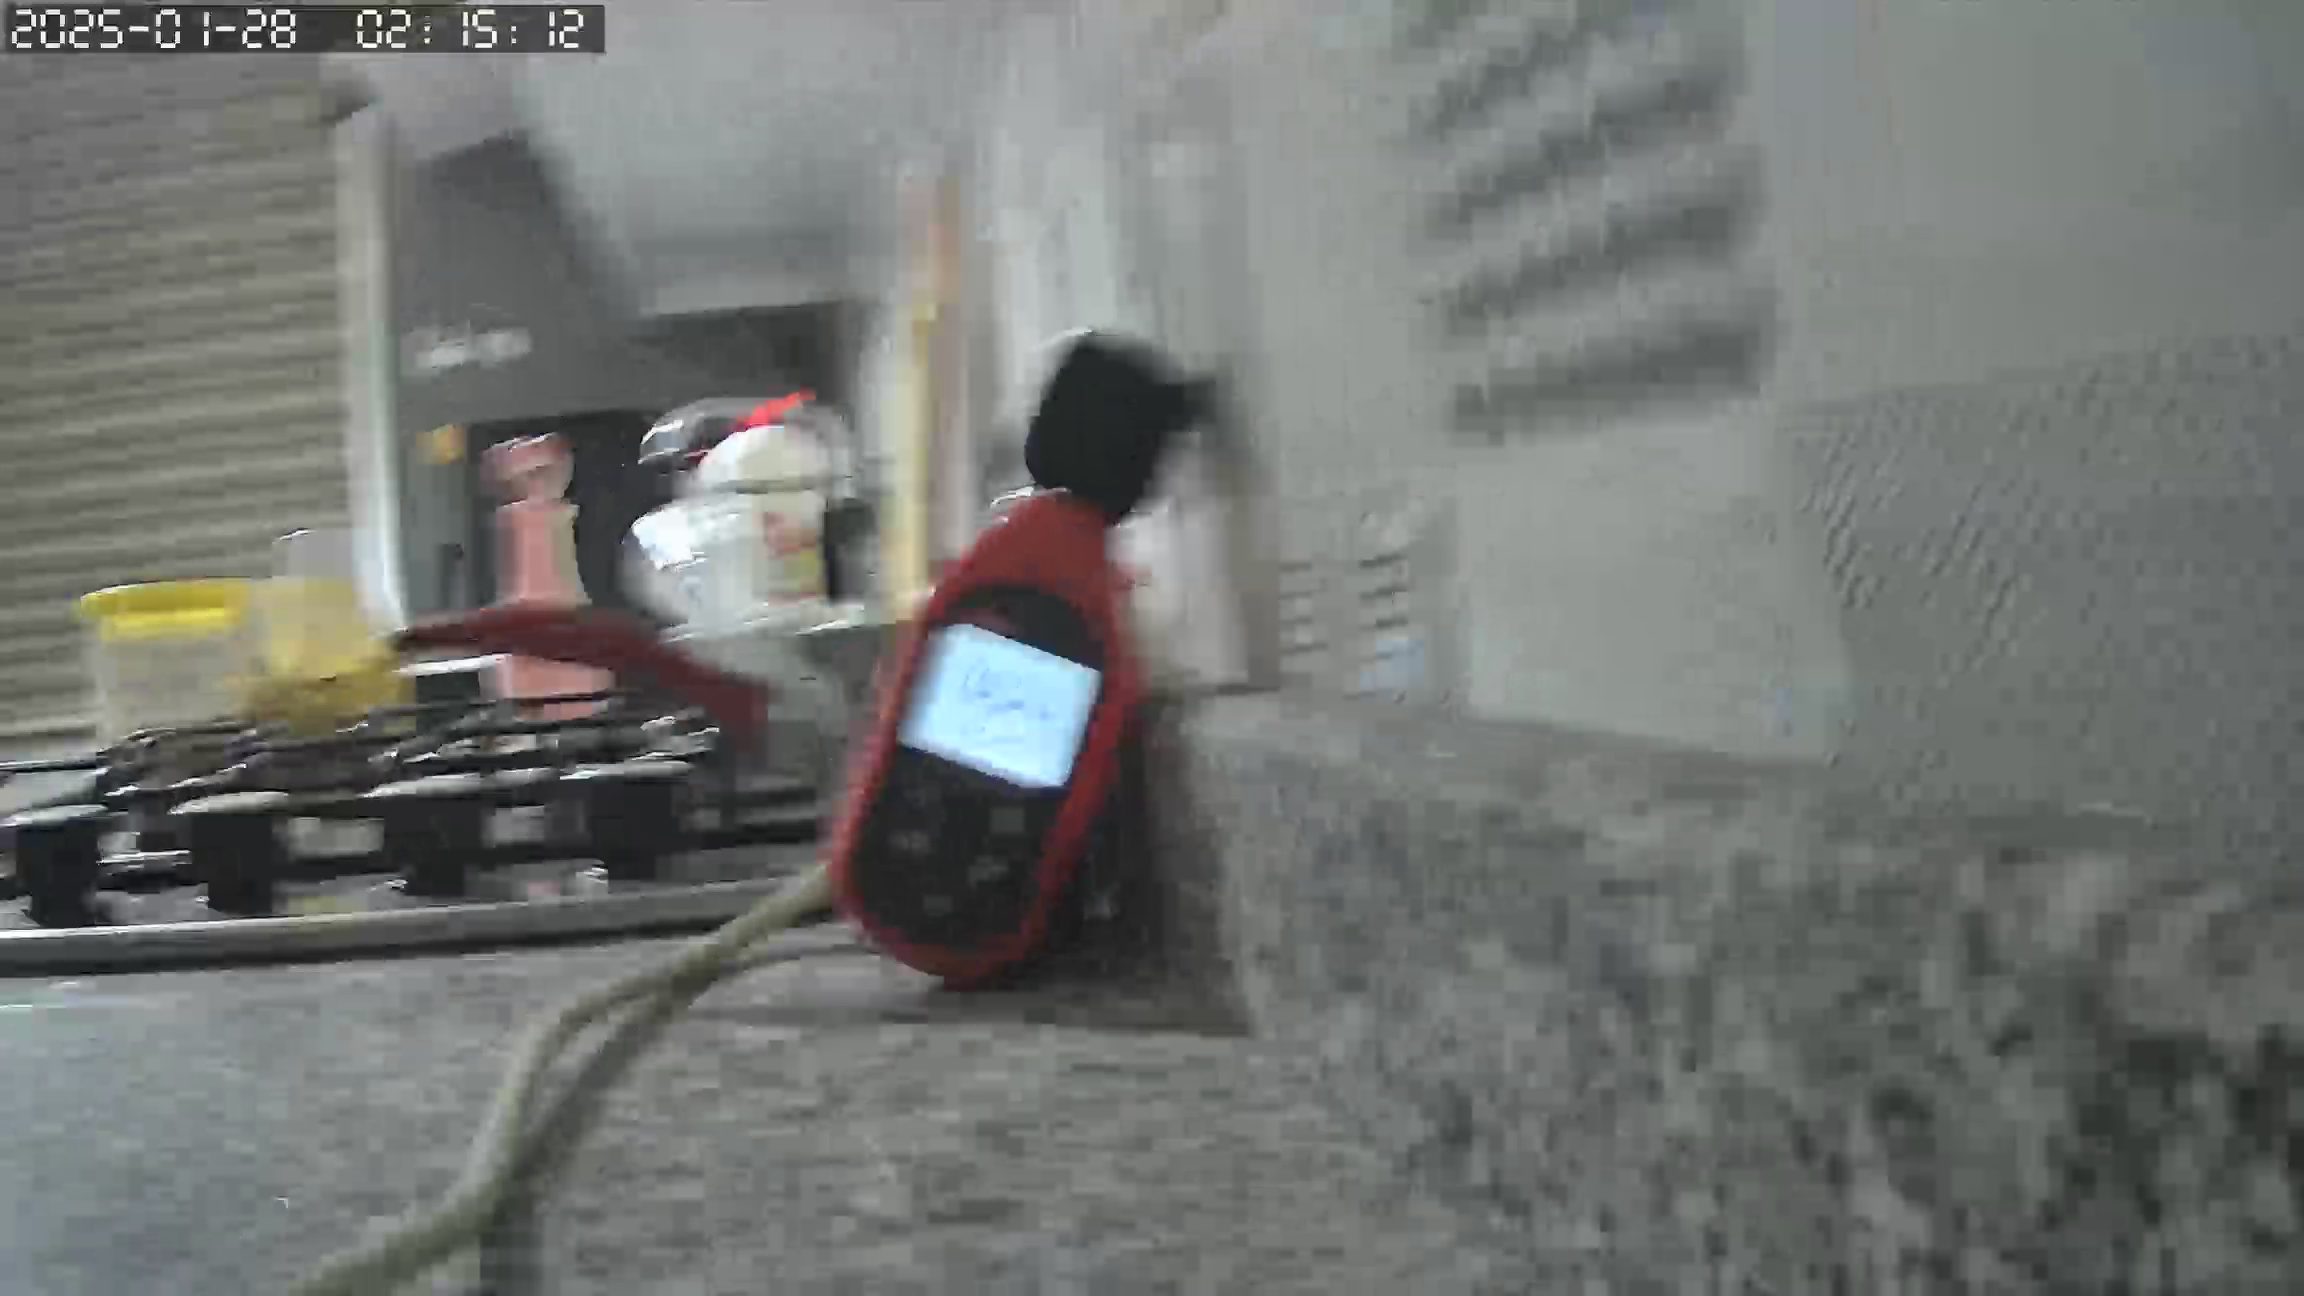screen: (892, 620, 1097, 790)
